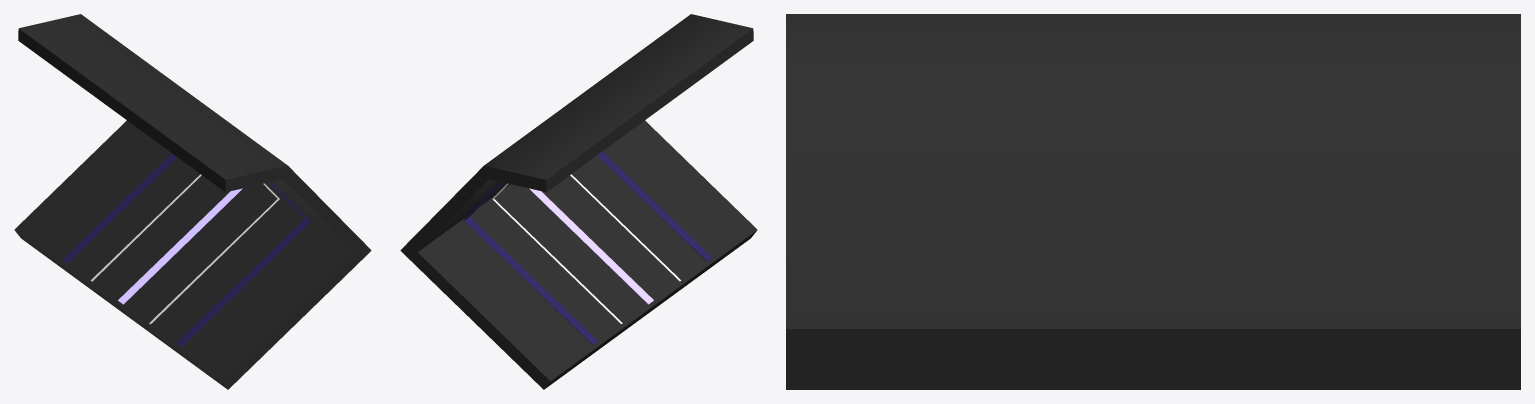
File: Tunnel.fbx
The picture shows the model from 3 angles, left to right: view 1: azimuth 30°, elevation 25°; view 2: azimuth 150°, elevation 25°; view 3: azimuth 270°, elevation 25°; orthographic projection. The views are drawn at different scales.
Parts seen in each view (by area): view 1: Sweep, Cap_2_3, accent_2, accent_2_2, accent_1_2, Cap_1_3, accent_1, accent; view 2: Sweep, Cap_2_3, accent_1_2, accent_2_2, accent_2, Cap_1_3, accent, accent_1; view 3: Sweep.
Part boxes in pixels (x1,y1,x2,y2): Sweep: (14,14,371,389); Cap_2_3: (18,29,225,191); accent_2: (176,182,310,346); accent_2_2: (118,188,242,304); accent_1_2: (62,153,177,263); Cap_1_3: (15,230,227,389); accent_1: (149,183,279,324); accent: (91,174,201,281); Sweep: (400,14,757,389); Cap_2_3: (546,29,753,191); accent_1_2: (463,182,597,345); accent_2_2: (529,188,653,304); accent_2: (597,151,712,261); Cap_1_3: (544,230,756,389); accent: (492,183,622,324); accent_1: (570,174,680,281); Sweep: (786,14,1520,389).
Size of the model in its own units: 2463 by 3296 by 5872.
